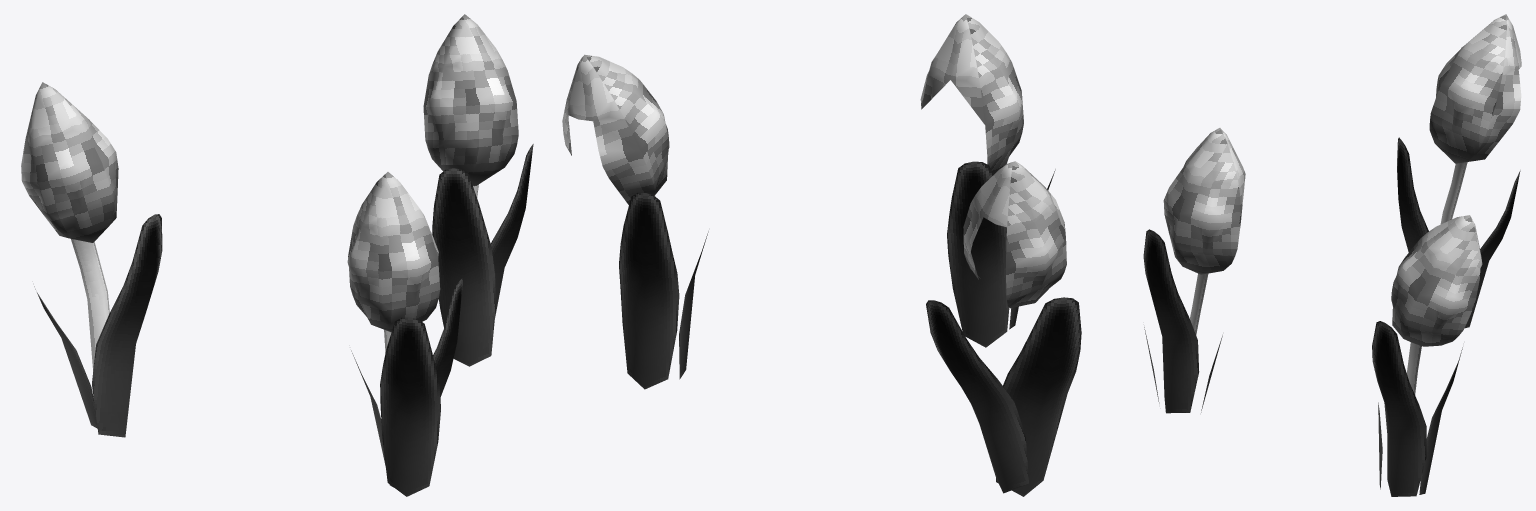
Rendered from PltFlwHyacinth0.glb.
3 renders of one model, left to right at view 1: azimuth 30°, elevation 25°; view 2: azimuth 150°, elevation 25°; view 3: azimuth 270°, elevation 25°, orthographic. The views are drawn at different scales.
Parts seen in each view (by area): view 1: FixA2__mHyacinthPetalGrd, Leaf50__mHyacinthLeafGrd; view 2: Leaf50__mHyacinthLeafGrd, FixA2__mHyacinthPetalGrd; view 3: FixA2__mHyacinthPetalGrd, Leaf50__mHyacinthLeafGrd.
Boxes of the visible parts, x1,y1,x2,y2 form: FixA2__mHyacinthPetalGrd: [21, 14, 518, 332]; Leaf50__mHyacinthLeafGrd: [34, 144, 533, 496]; Leaf50__mHyacinthLeafGrd: [619, 161, 1081, 496]; FixA2__mHyacinthPetalGrd: [562, 14, 1066, 308]; FixA2__mHyacinthPetalGrd: [1163, 14, 1521, 346]; Leaf50__mHyacinthLeafGrd: [1143, 137, 1520, 496].
Size of the model in its own units: 8 by 5.3 by 6.36.
Materials: 2 (2 with a texture image).
